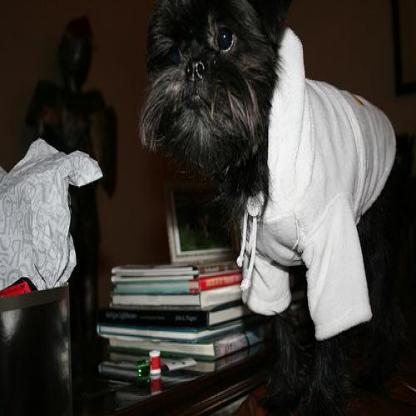affenpinscher: (143, 0, 414, 414)
